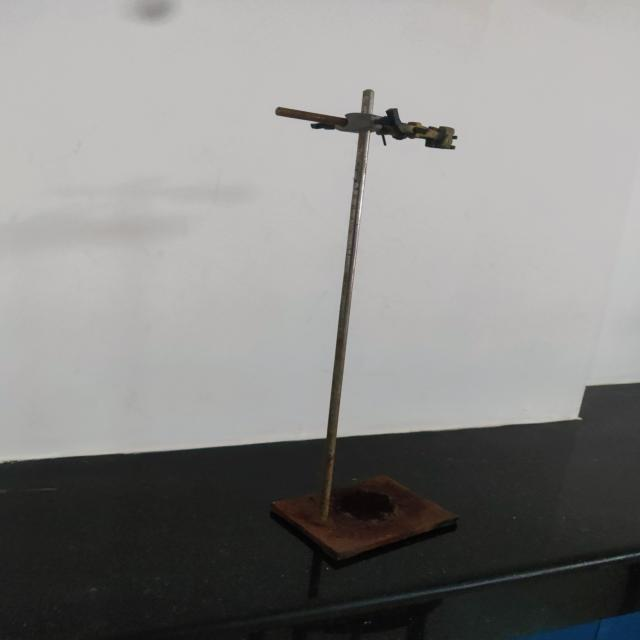Burette_Stands: (212, 53, 524, 588)
